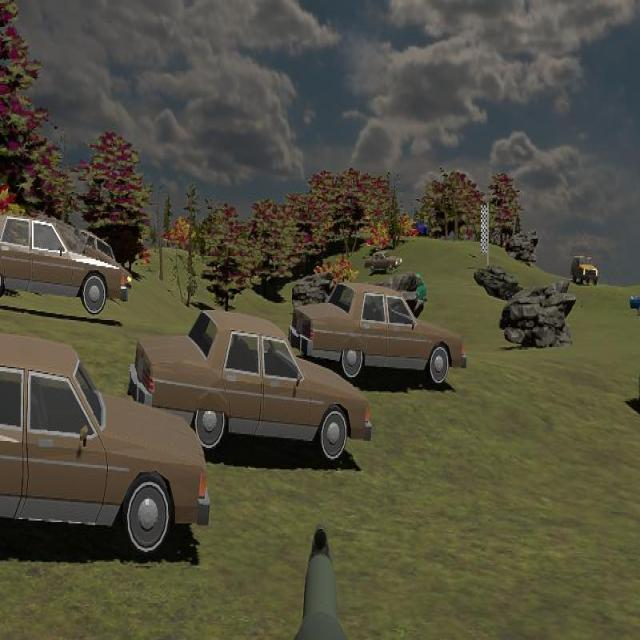Tank: (466, 259, 522, 301)
car: (1, 332, 211, 558), (128, 313, 374, 463), (290, 282, 467, 387), (0, 213, 132, 316), (571, 254, 599, 287), (364, 250, 402, 271), (629, 289, 640, 316)
